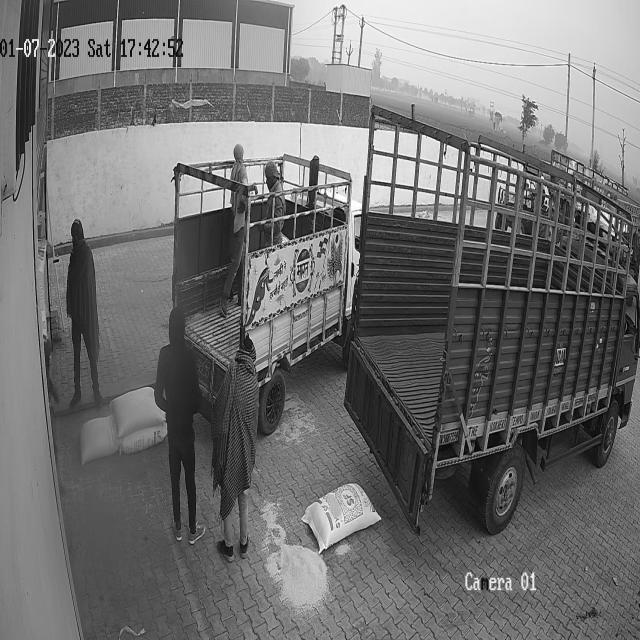sack: (302, 483, 381, 553), (109, 387, 166, 437), (79, 414, 119, 465), (122, 422, 168, 454)
